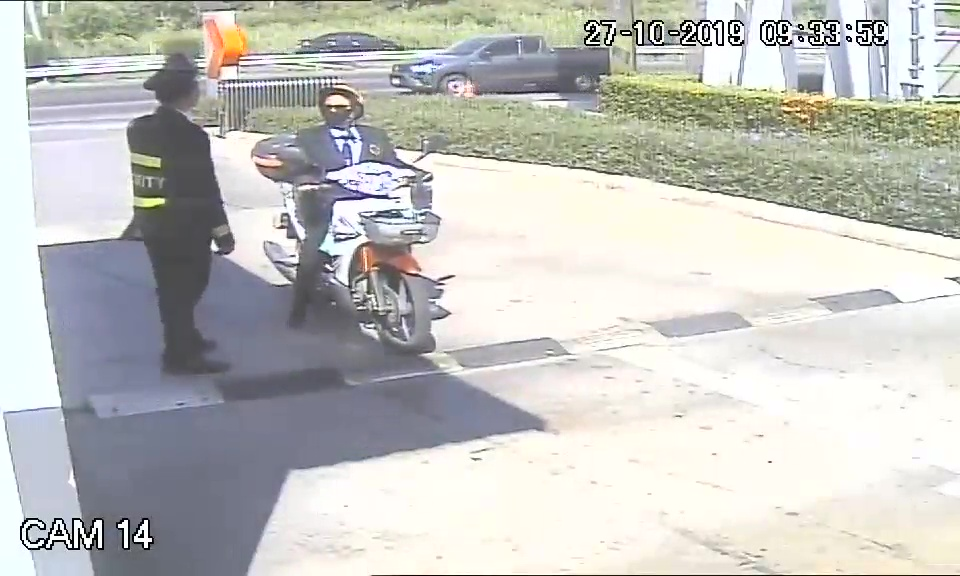motorcycle: (265, 168, 438, 353)
